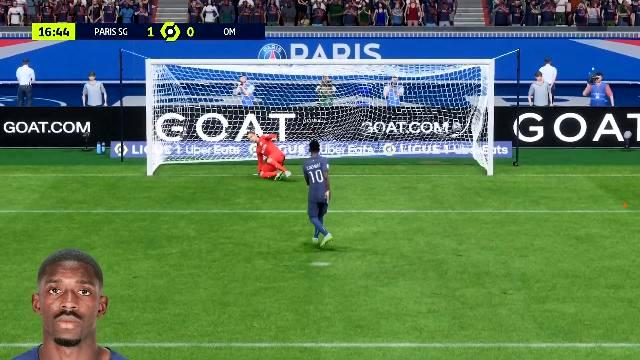bottom-left: (154, 124, 262, 176)
bottom-right: (374, 126, 488, 176)
center-down: (264, 124, 374, 176)
center-up: (266, 65, 372, 123)
football: (450, 121, 466, 133)
goalkeeper: (246, 127, 298, 180)
player: (301, 141, 349, 250)
top-left: (155, 65, 263, 123)
top-right: (375, 66, 489, 124)
